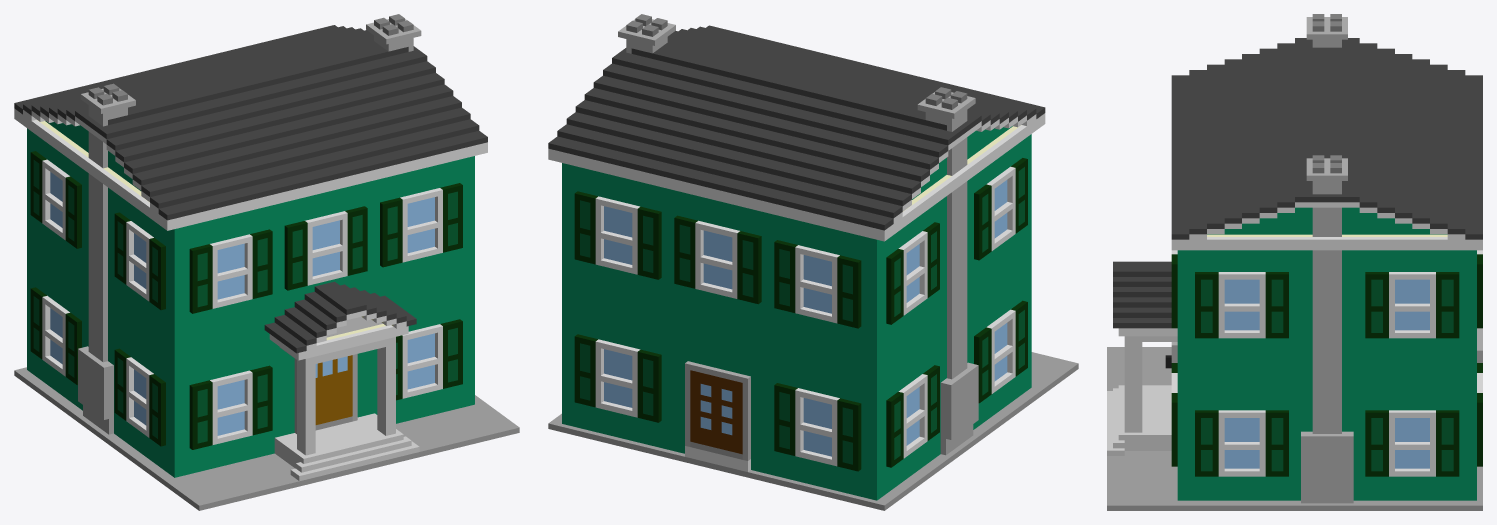
File: obj_house4b.obj
The picture shows the model from 3 angles, left to right: view 1: azimuth 30°, elevation 25°; view 2: azimuth 150°, elevation 25°; view 3: azimuth 270°, elevation 25°; orthographic projection. The views are drawn at different scales.
Bounding box in the file's own units: 6.4 × 6.4 × 6.4.
Materials: 1 (1 with a texture image).
